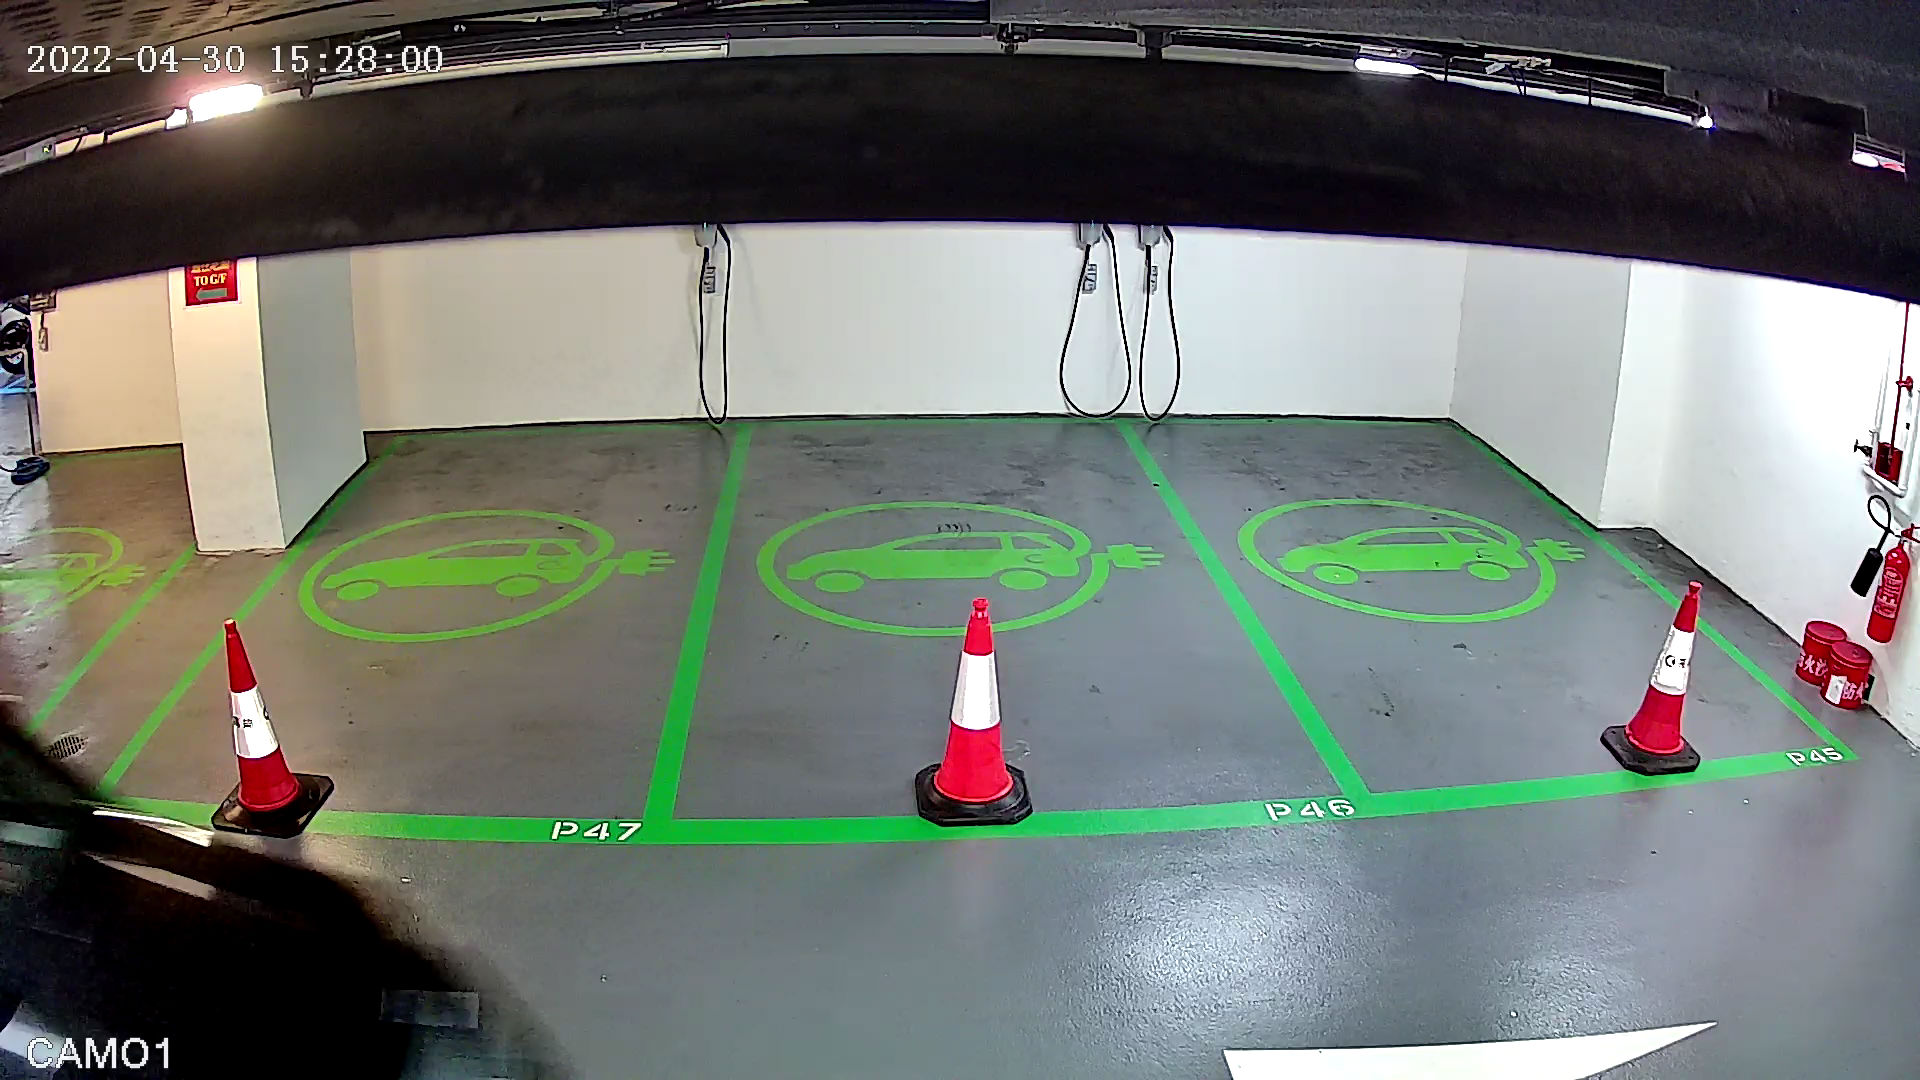space: (1083, 363, 1894, 849), (626, 371, 1383, 884), (70, 388, 771, 886)
